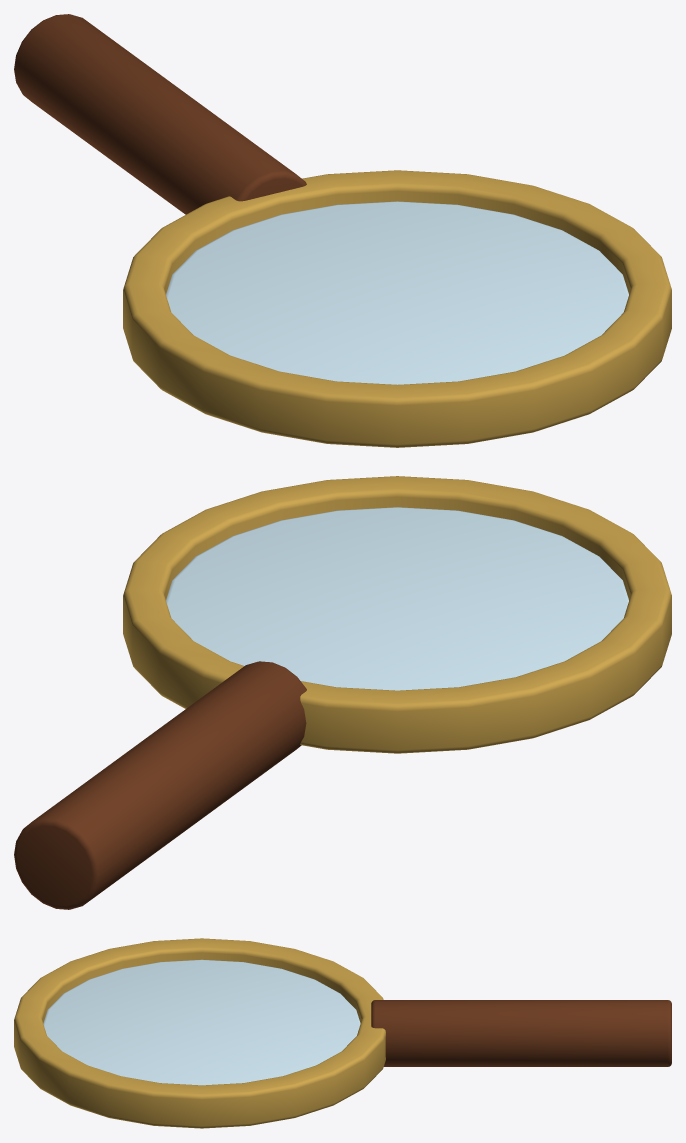
File: lupa.glb
3 views of the same model, one above another, from view 1: azimuth 30°, elevation 25°; view 2: azimuth 150°, elevation 25°; view 3: azimuth 270°, elevation 25° (orthographic). The views are drawn at different scales.
Visible parts, largest first — view 1: lupa; view 2: lupa; view 3: lupa.
Part boxes in pixels (x1=…): lupa: x1=14, y1=14, x2=671, y2=447; lupa: x1=14, y1=476, x2=671, y2=909; lupa: x1=14, y1=938, x2=671, y2=1128.
Bounding box in the file's own units: 0.9 × 0.162 × 1.58.
